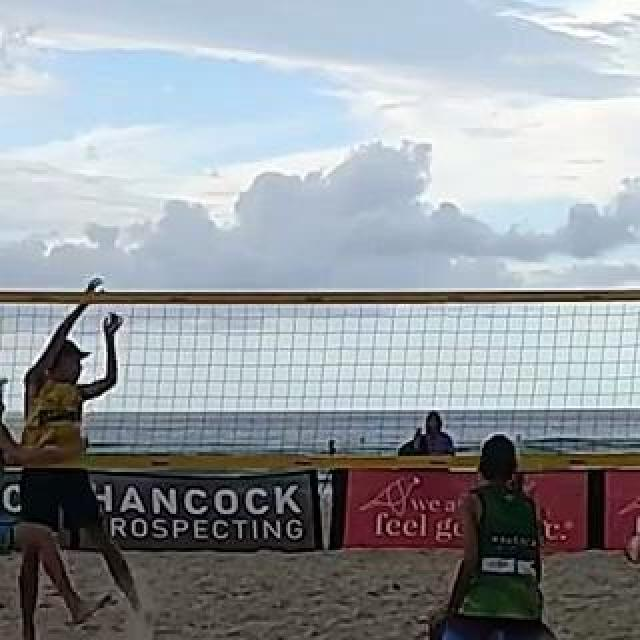volleyball: (624, 532, 640, 566)
